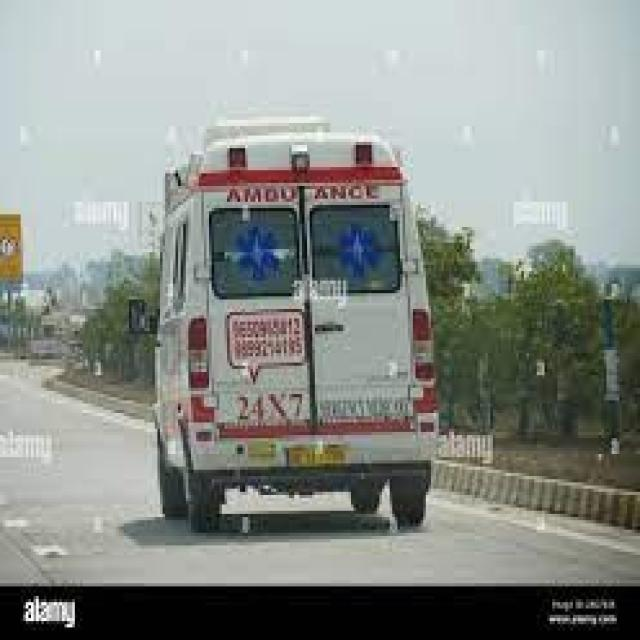ambulance: (158, 128, 425, 507)
